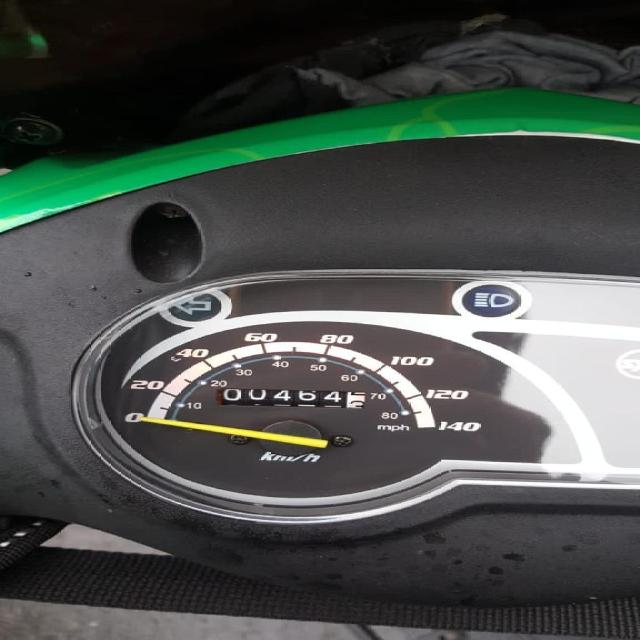odometer: (212, 384, 378, 412)
